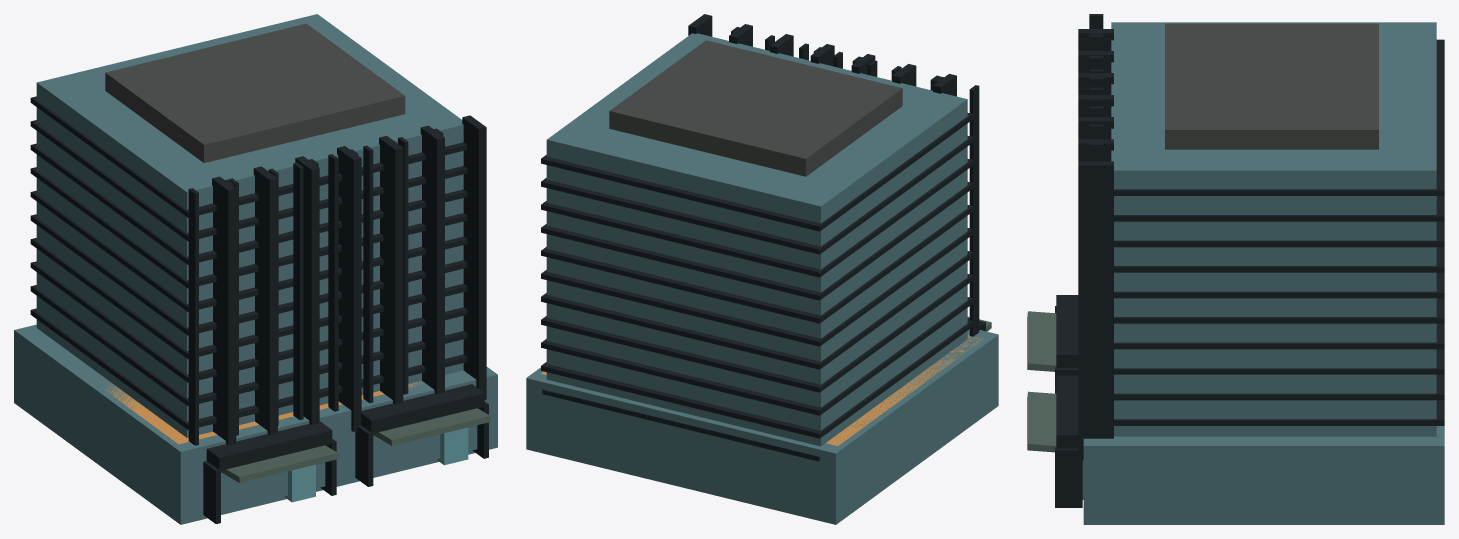
The model's file is curtain-wall-modules.glb.
3 renders of one model, left to right at view 1: azimuth 30°, elevation 25°; view 2: azimuth 150°, elevation 25°; view 3: azimuth 270°, elevation 25°, orthographic. The views are drawn at different scales.
Parts seen in each view (by area): view 1: miesian-grid-tower-smoked-curtain-glass-merged, bronze-fin-tower-dark-structural-steel-merged, miesian-grid-tower-dark-structural-steel-merged, miesian-grid-tower-roof-membrane-merged, bronze-fin-tower-smoked-curtain-glass-merged, bronze-fin-tower-roof-membrane-merged, transparent-podium-tower-smoked-curtain-glass-merged, blue-unitized-tower-dark-structural-steel-merged, miesian-grid-tower-painted-metal-merged, miesian-grid-tower-blue-green-curtain-glass-merged, transparent-podium-tower-warm-interior-card-merged; view 2: miesian-grid-tower-smoked-curtain-glass-merged, miesian-grid-tower-dark-structural-steel-merged, bronze-fin-tower-smoked-curtain-glass-merged, miesian-grid-tower-roof-membrane-merged, transparent-podium-tower-smoked-curtain-glass-merged, bronze-fin-tower-dark-structural-steel-merged, bronze-fin-tower-roof-membrane-merged, transparent-podium-tower-warm-interior-card-merged, blue-unitized-tower-dark-structural-steel-merged; view 3: bronze-fin-tower-smoked-curtain-glass-merged, miesian-grid-tower-smoked-curtain-glass-merged, bronze-fin-tower-dark-structural-steel-merged, bronze-fin-tower-roof-membrane-merged, transparent-podium-tower-smoked-curtain-glass-merged, miesian-grid-tower-dark-structural-steel-merged, miesian-grid-tower-roof-membrane-merged, miesian-grid-tower-painted-metal-merged, blue-unitized-tower-dark-structural-steel-merged.
Boxes of the visible parts, <box> form: miesian-grid-tower-smoked-curtain-glass-merged: <box>14,14,497,524</box>; bronze-fin-tower-dark-structural-steel-merged: <box>212,115,486,445</box>; miesian-grid-tower-dark-structural-steel-merged: <box>30,96,488,523</box>; miesian-grid-tower-roof-membrane-merged: <box>105,25,398,162</box>; bronze-fin-tower-smoked-curtain-glass-merged: <box>67,14,463,424</box>; bronze-fin-tower-roof-membrane-merged: <box>131,23,405,156</box>; transparent-podium-tower-smoked-curtain-glass-merged: <box>14,324,497,524</box>; blue-unitized-tower-dark-structural-steel-merged: <box>224,128,443,428</box>; miesian-grid-tower-painted-metal-merged: <box>221,408,490,482</box>; miesian-grid-tower-blue-green-curtain-glass-merged: <box>284,427,468,502</box>; transparent-podium-tower-warm-interior-card-merged: <box>105,382,423,444</box>; miesian-grid-tower-smoked-curtain-glass-merged: <box>526,33,998,524</box>; miesian-grid-tower-dark-structural-steel-merged: <box>542,18,985,461</box>; bronze-fin-tower-smoked-curtain-glass-merged: <box>546,33,932,438</box>; miesian-grid-tower-roof-membrane-merged: <box>615,42,902,176</box>; transparent-podium-tower-smoked-curtain-glass-merged: <box>526,329,998,523</box>; bronze-fin-tower-dark-structural-steel-merged: <box>541,14,956,453</box>; bronze-fin-tower-roof-membrane-merged: <box>609,40,871,170</box>; transparent-podium-tower-warm-interior-card-merged: <box>541,335,983,446</box>; blue-unitized-tower-dark-structural-steel-merged: <box>731,27,943,85</box>; bronze-fin-tower-smoked-curtain-glass-merged: <box>1111,38,1436,436</box>; miesian-grid-tower-smoked-curtain-glass-merged: <box>1082,22,1444,524</box>; bronze-fin-tower-dark-structural-steel-merged: <box>1078,29,1444,460</box>; bronze-fin-tower-roof-membrane-merged: <box>1165,37,1378,149</box>; transparent-podium-tower-smoked-curtain-glass-merged: <box>1083,426,1444,524</box>; miesian-grid-tower-dark-structural-steel-merged: <box>1055,14,1444,507</box>; miesian-grid-tower-roof-membrane-merged: <box>1165,23,1378,126</box>; miesian-grid-tower-painted-metal-merged: <box>1027,311,1056,452</box>; blue-unitized-tower-dark-structural-steel-merged: <box>1089,32,1103,161</box>.
Bounding box in the file's own units: 1 × 1.02 × 1.05.
